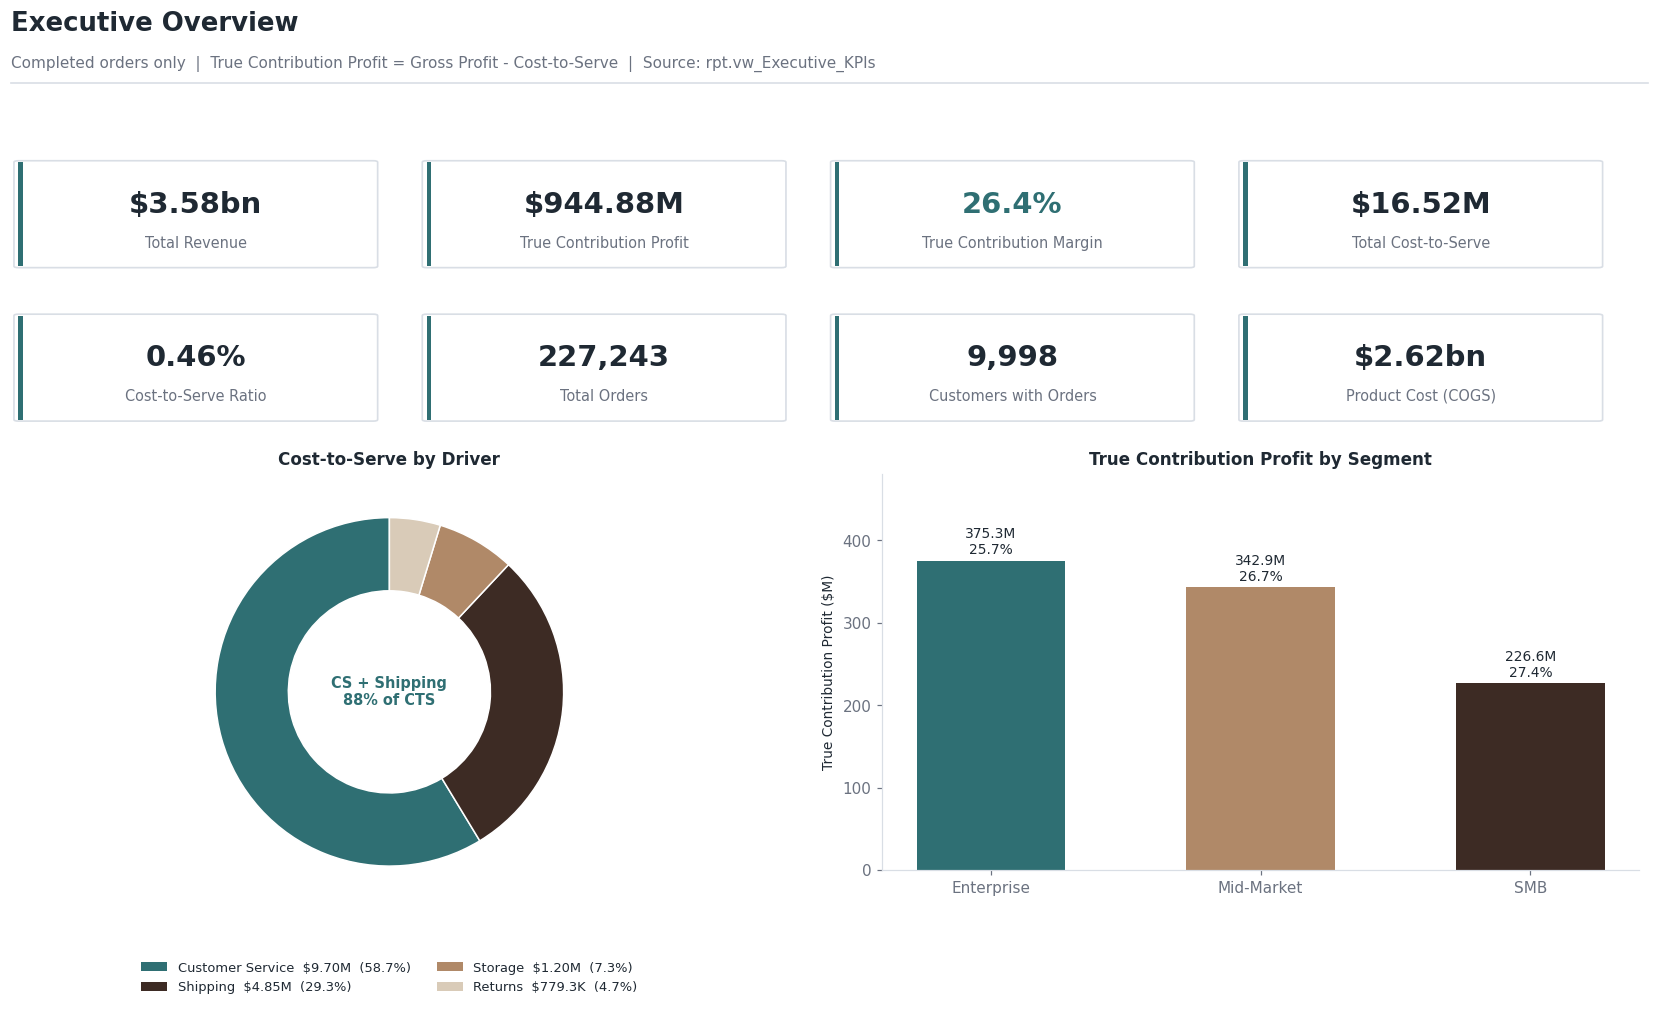

This screenshot's page, from the dashboard's own definition file:
{"tool":"powerbi","page":{"name":"Executive Overview","canvas":[1480,920],"ordinal":0},"visuals":[{"type":"cardVisual","fields":{"Data":["rpt vw_Cost_to_Serve.Contribution Margin %"]},"box":[833.3,123.3,221.8,115.4],"z":0},{"type":"cardVisual","fields":{"Data":["rpt vw_Cost_to_Serve.Contribution Profit"]},"box":[1090,123.3,221.8,115.4],"z":1000},{"type":"cardVisual","fields":{"Data":["rpt vw_Cost_to_Serve.Cost-to-Serve Ratio %"]},"box":[570,123.3,219.2,115.4],"z":2000},{"type":"cardVisual","fields":{"Data":["rpt vw_Cost_to_Serve.Total Cost-to-Serve"]},"box":[1200,268.3,221.8,109],"z":3000},{"type":"cardVisual","fields":{"Data":["rpt vw_Cost_to_Serve.Total Customers"]},"box":[956.7,268.3,221.8,109],"z":4000},{"type":"cardVisual","fields":{"Data":["rpt vw_Cost_to_Serve.Total Orders"]},"box":[710,268.3,221.7,108.3],"z":5000},{"type":"cardVisual","fields":{"Data":["rpt vw_Cost_to_Serve.Total Revenue"]},"box":[470,261.7,221.8,115.4],"z":6000},{"type":"columnChart","title":" Profitability by Customer Segment","fields":{"Category":["rpt vw_Customer_Profitability.Customer_Segment"],"Y":["rpt vw_Cost_to_Serve.Contribution Profit","rpt vw_Cost_to_Serve.Total Revenue"]},"box":[1041.7,513.3,379.6,361.2],"z":7000},{"type":"pieChart","fields":{"Category":["rpt vw_Customer_Profitability.Customer_Segment"],"Y":["rpt vw_Cost_to_Serve.Contribution Margin %"]},"box":[25,181.7,410,298.3],"z":8000},{"type":"donutChart","fields":{"Y":["rpt vw_Cost_to_Serve.Customer Service Cost","rpt vw_Cost_to_Serve.Returns Cost","rpt vw_Cost_to_Serve.Shipping Cost","rpt vw_Cost_to_Serve.Storage Cost"]},"box":[33.3,513.3,393.3,361.7],"z":9000},{"type":"barChart","fields":{"Category":["rpt vw_Customer_Profitability_Segmentation.Profitability_Segment"],"Y":["CountNonNull(rpt vw_Customer_Profitability_Segmentation.Customer_ID)"]},"box":[496.7,513.3,485.5,361.2],"z":10000},{"type":"pageNavigator","box":[25.2,8.4,1002.3,89],"z":11000},{"type":"slicer","fields":{"Values":["rpt vw_Customer_Profitability.Customer_Segment"]},"box":[1068,0,326,108],"z":12000}]}

Visuals, with their boxes in screenshot pixels (x1, y1, x2, y2), scaled from the page's 1480x920 canvas onto the 1658x1010 screenshot:
cardVisual - rpt vw_Cost_to_Serve.Contribution Margin %: [left=934, top=135, right=1182, bottom=262]
cardVisual - rpt vw_Cost_to_Serve.Contribution Profit: [left=1221, top=135, right=1470, bottom=262]
cardVisual - rpt vw_Cost_to_Serve.Cost-to-Serve Ratio %: [left=639, top=135, right=884, bottom=262]
cardVisual - rpt vw_Cost_to_Serve.Total Cost-to-Serve: [left=1344, top=295, right=1593, bottom=414]
cardVisual - rpt vw_Cost_to_Serve.Total Customers: [left=1072, top=295, right=1320, bottom=414]
cardVisual - rpt vw_Cost_to_Serve.Total Orders: [left=795, top=295, right=1044, bottom=413]
cardVisual - rpt vw_Cost_to_Serve.Total Revenue: [left=527, top=287, right=775, bottom=414]
" Profitability by Customer Segment" columnChart: [left=1167, top=564, right=1592, bottom=960]
pieChart - rpt vw_Customer_Profitability.Customer_Segment x rpt vw_Cost_to_Serve.Contribution Margin %: [left=28, top=199, right=487, bottom=527]
donutChart - rpt vw_Cost_to_Serve.Customer Service Cost x rpt vw_Cost_to_Serve.Returns Cost: [left=37, top=564, right=478, bottom=961]
barChart - rpt vw_Customer_Profitability_Segmentation.Profitability_Segment x CountNonNull(rpt vw_Customer_Profitability_Segmentation.Customer_ID): [left=556, top=564, right=1100, bottom=960]
pageNavigator: [left=28, top=9, right=1151, bottom=107]
slicer - rpt vw_Customer_Profitability.Customer_Segment: [left=1196, top=0, right=1562, bottom=119]
